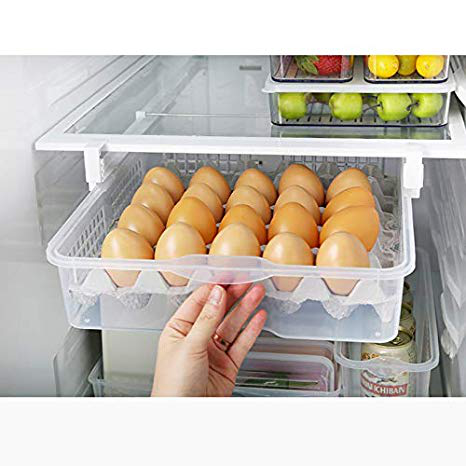egg: (102, 162, 382, 297)
